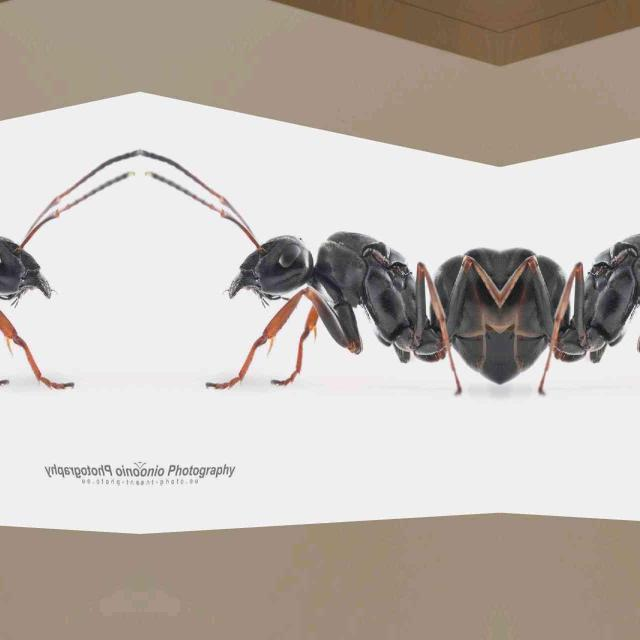Formica: (150, 136, 500, 416), (500, 136, 640, 416), (0, 136, 128, 416)
